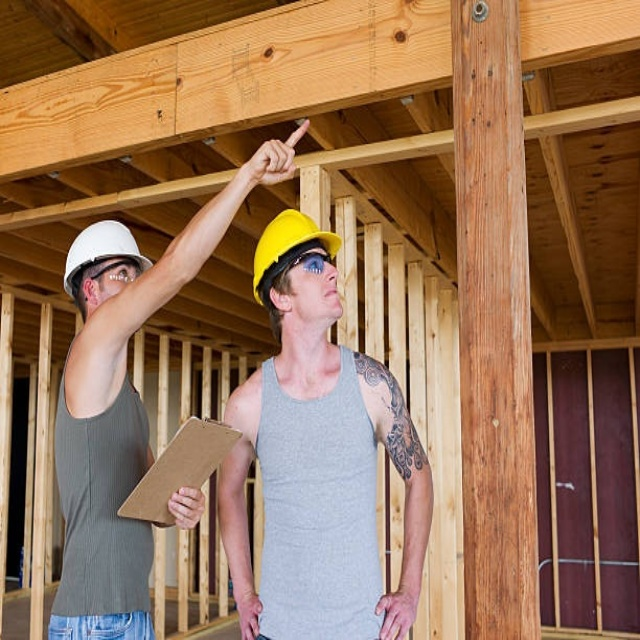Gafas: (268, 249, 332, 297), (79, 258, 138, 297)
Sin_guantes: (242, 113, 313, 189), (372, 583, 419, 636), (168, 485, 205, 530), (233, 588, 264, 636)
Sin_mascara: (315, 275, 341, 315)
